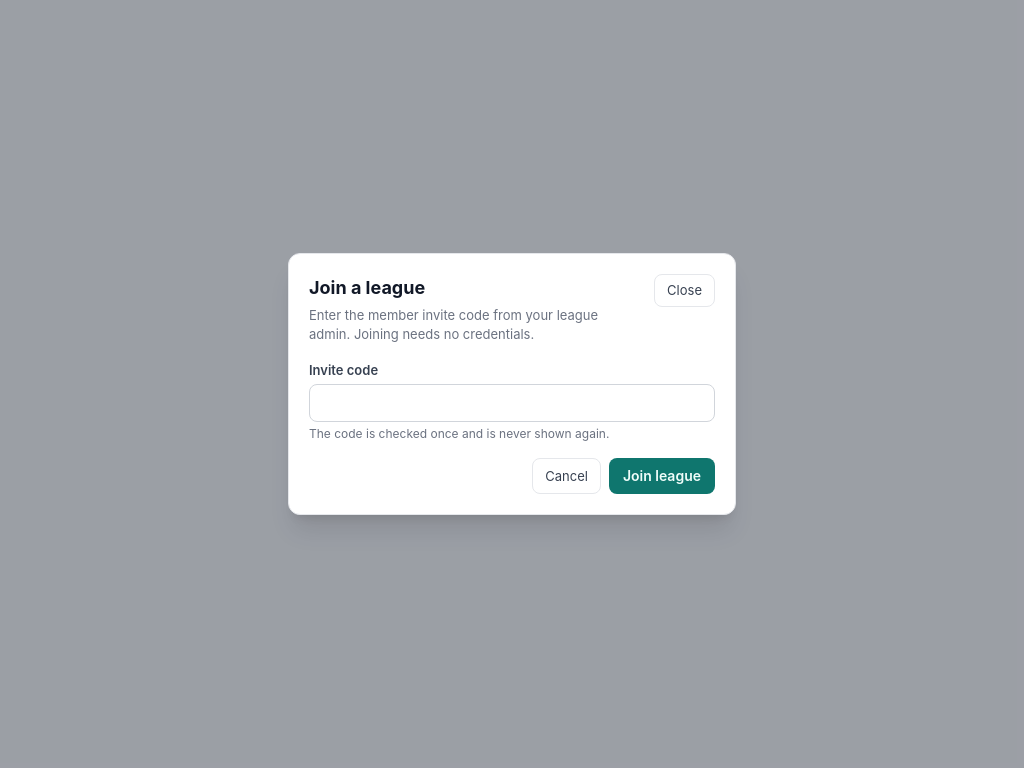
Test: AddLeagueDialog › shows the redeem 400 response and keeps the member form usable
Type "member-code" into the password field labelled "Invite code" at (512, 403), box [309,384,715,422]
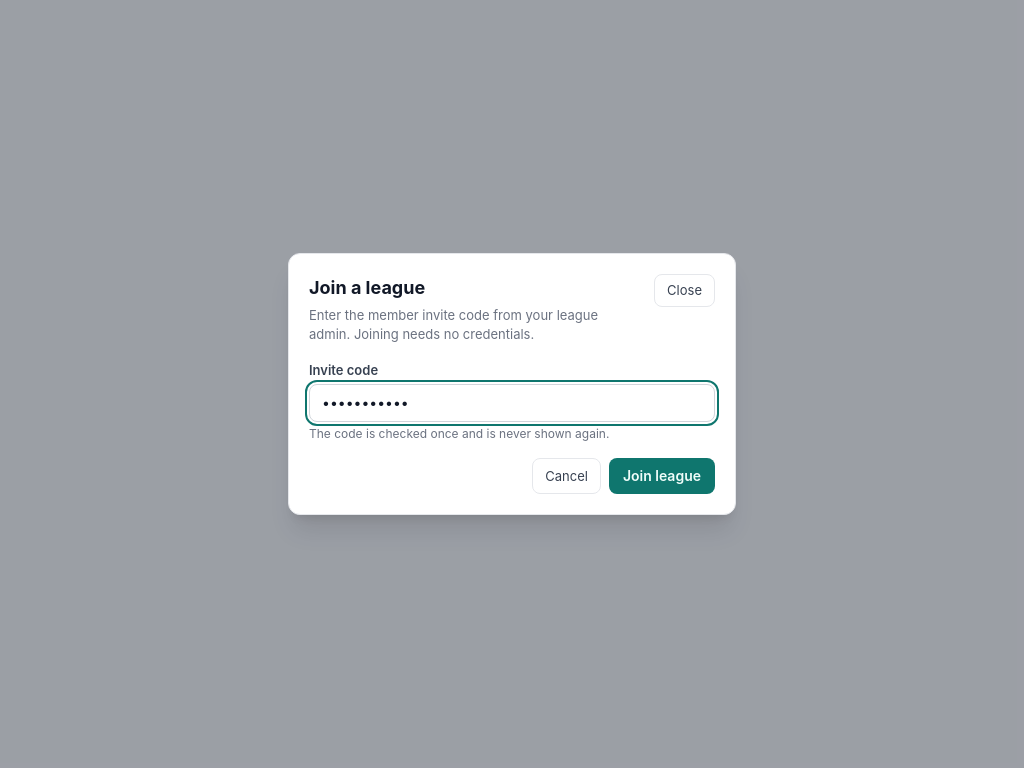
Click the button "Join league" at (662, 476), box [609,458,715,494]
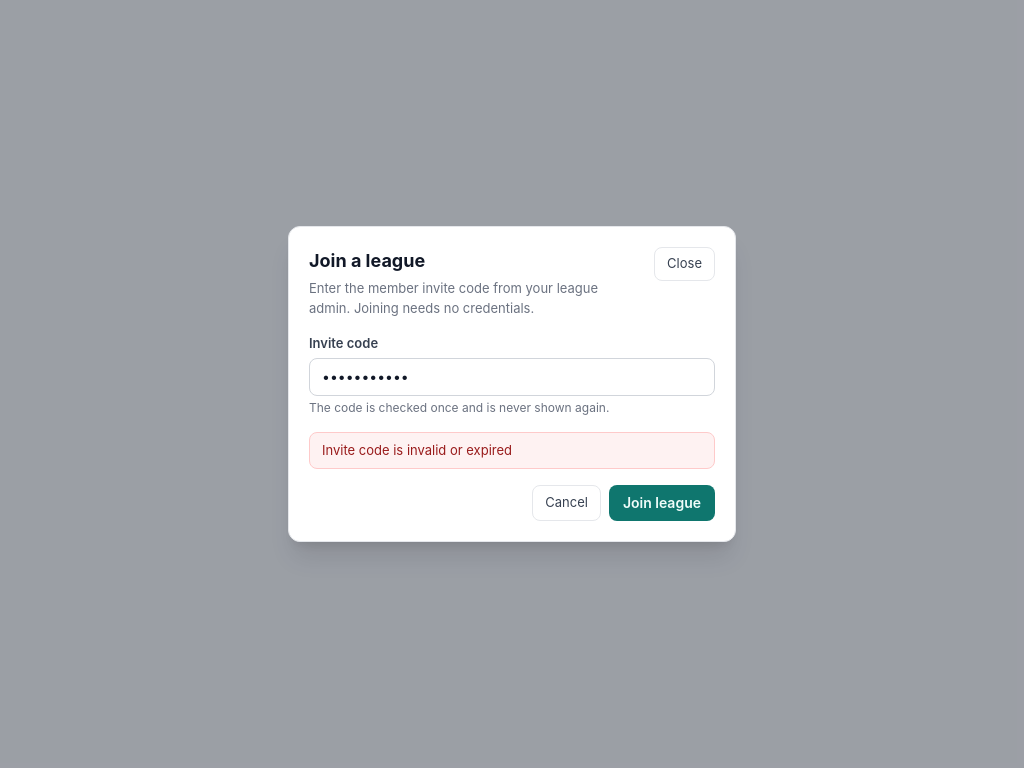
expect the message does not show "Try again in": met, box [309,432,715,469]
expect the message reads "Invite code is invalid or expired": met, box [322,442,512,458]
